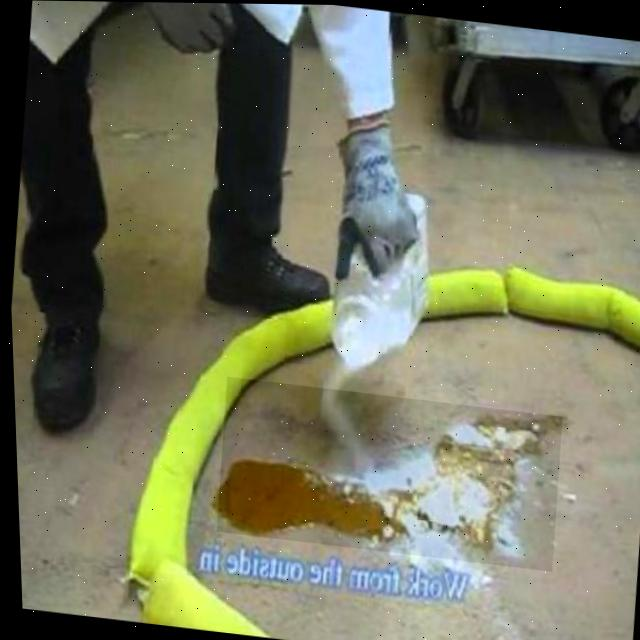spillage: (215, 414, 559, 561)
